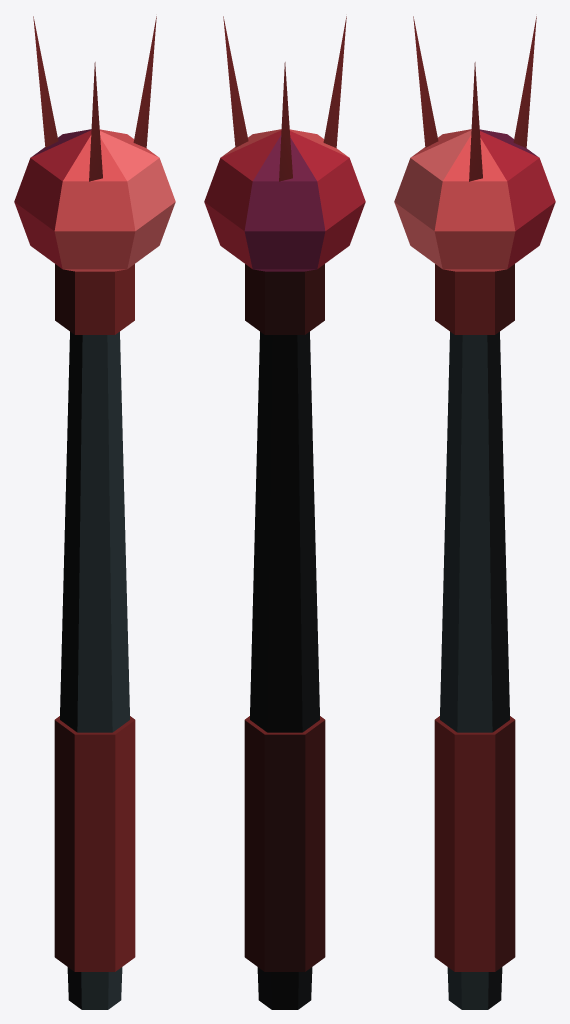
File: mage_wand_3.gltf
3 views of the same model, side by side, from view 1: azimuth 30°, elevation 25°; view 2: azimuth 150°, elevation 25°; view 3: azimuth 270°, elevation 25° (orthographic).
Visible parts, largest first — view 1: mage_wand_3; view 2: mage_wand_3; view 3: mage_wand_3.
Part boxes in pixels (x1=…): mage_wand_3: x1=14, y1=16, x2=175, y2=1009; mage_wand_3: x1=204, y1=16, x2=365, y2=1009; mage_wand_3: x1=394, y1=16, x2=555, y2=1009.
Bounding box in the file's own units: 0.1188 × 0.9 × 0.1357.
Materials: 1 (1 with a texture image).
